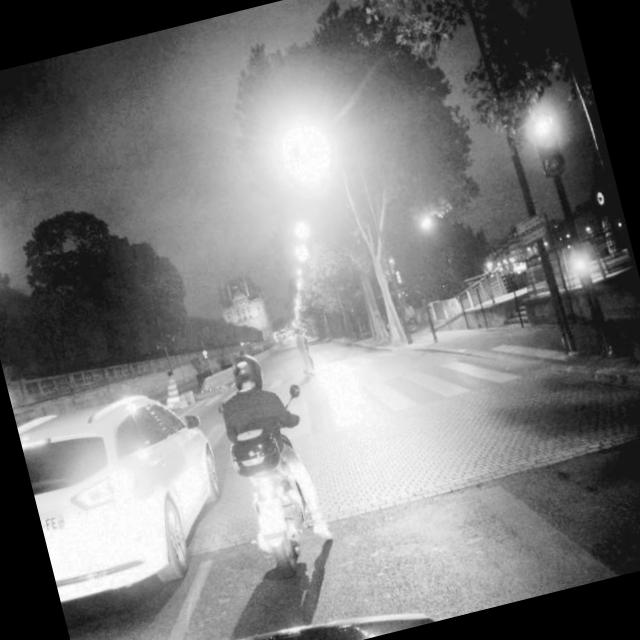Light: (529, 112, 567, 178), (572, 256, 587, 274)
